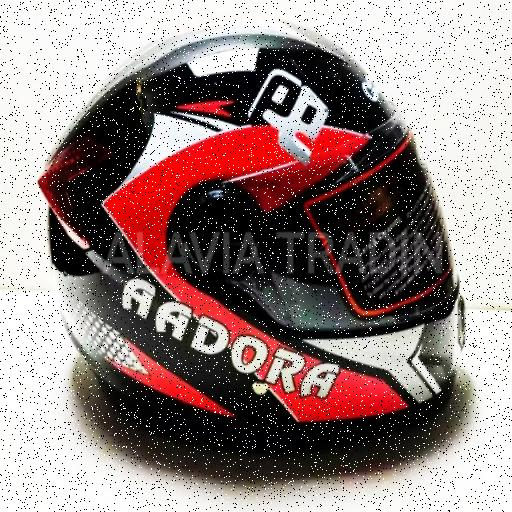Helmet: (40, 23, 463, 425)
